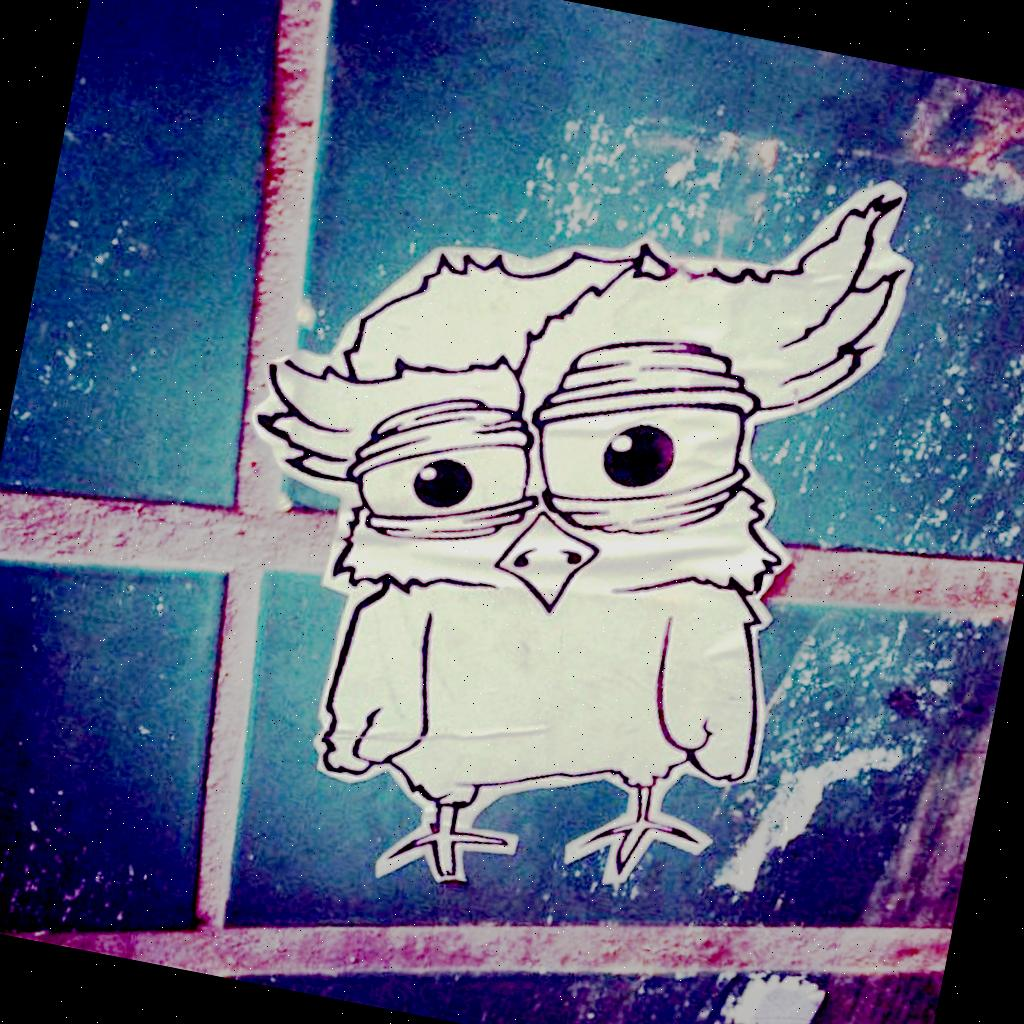Owl: (172, 74, 928, 946)
